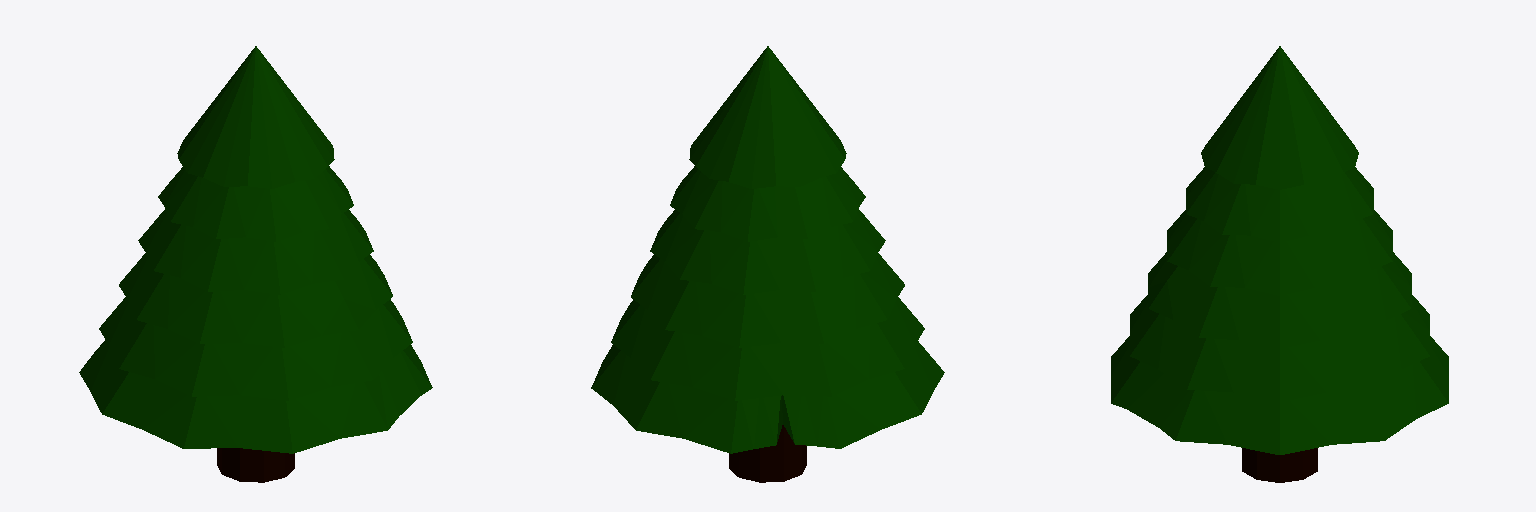
Rendered from tree.obj.
3 views of the same model, side by side, from view 1: azimuth 30°, elevation 25°; view 2: azimuth 150°, elevation 25°; view 3: azimuth 270°, elevation 25° (orthographic).
Visible parts, largest first — view 1: Cone006_Mesh, Cylinder001_Mesh.001; view 2: Cone006_Mesh, Cylinder001_Mesh.001; view 3: Cone006_Mesh, Cylinder001_Mesh.001.
Part boxes in pixels (x1,y1,x2,y2): Cone006_Mesh: (79,46,432,453); Cylinder001_Mesh.001: (217,448,294,482); Cone006_Mesh: (591,46,944,453); Cylinder001_Mesh.001: (729,425,806,482); Cone006_Mesh: (1111,46,1448,454); Cylinder001_Mesh.001: (1242,448,1317,482).
Bounding box in the file's own units: 1.8 × 2.35 × 1.71.